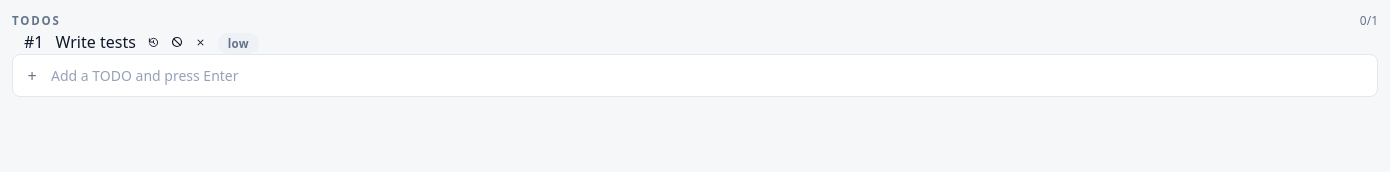
journal sections against real HTTP errors (#232) › create failures (HTTP 500): typed text and focus › todo create: shows an error and keeps the typed text in the input
Expected: the button "Write tests" is shown, [56, 30, 136, 54]
Type "New todo" into the field with placeholder "Add a TODO and press Enter".
click(709, 76); type("New todo")  # box [51, 63, 1367, 88]
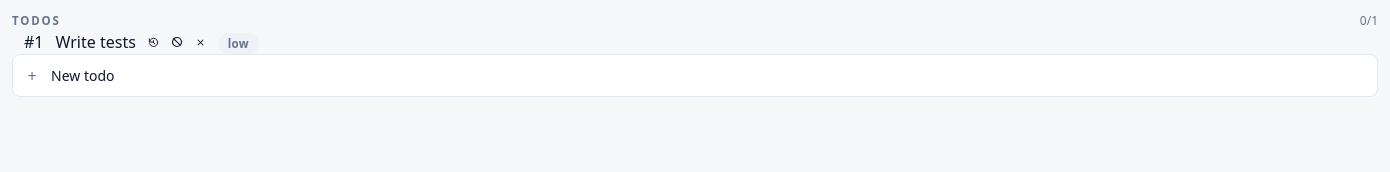
Submit the form with placeholder "Add a TODO and press Enter", box [12, 54, 1378, 97]
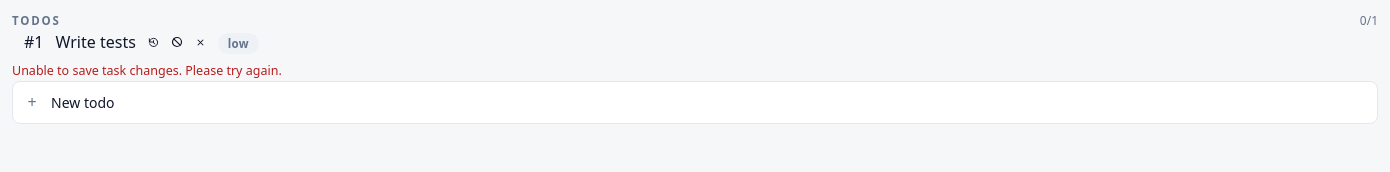
Expected: the field with placeholder "Add a TODO and press Enter" is enabled, [51, 90, 1367, 115]
Now the message "Unable to save task changes. Please try again." is shown, box [12, 62, 282, 79]
